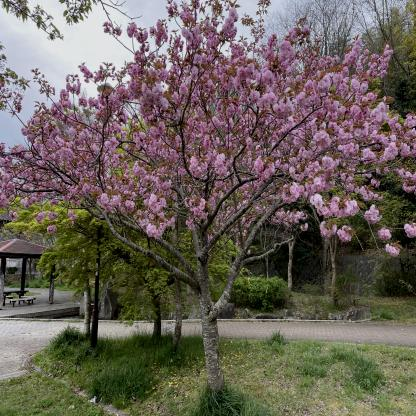YaeSakura: (0, 0, 416, 252), (0, 0, 111, 164)
